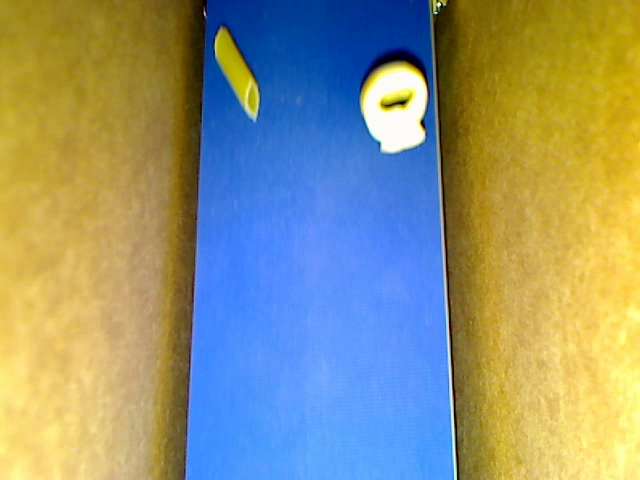penne: (213, 26, 260, 122)
tortellini: (359, 62, 428, 153)
